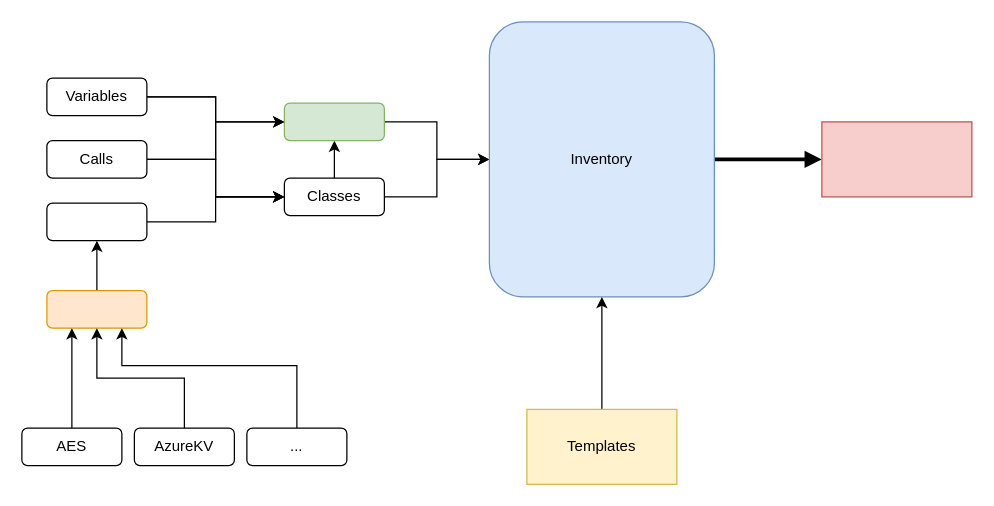
Some shapes in this 994 by 506 pixel diagram are drawn without their labels. Each missing label, with the centre of its shape:
"compiled output" belongs at point (896, 159).
"Secret Driver" belongs at point (96, 308).
"Secrets" belongs at point (96, 221).
"Target" belongs at point (333, 121).
